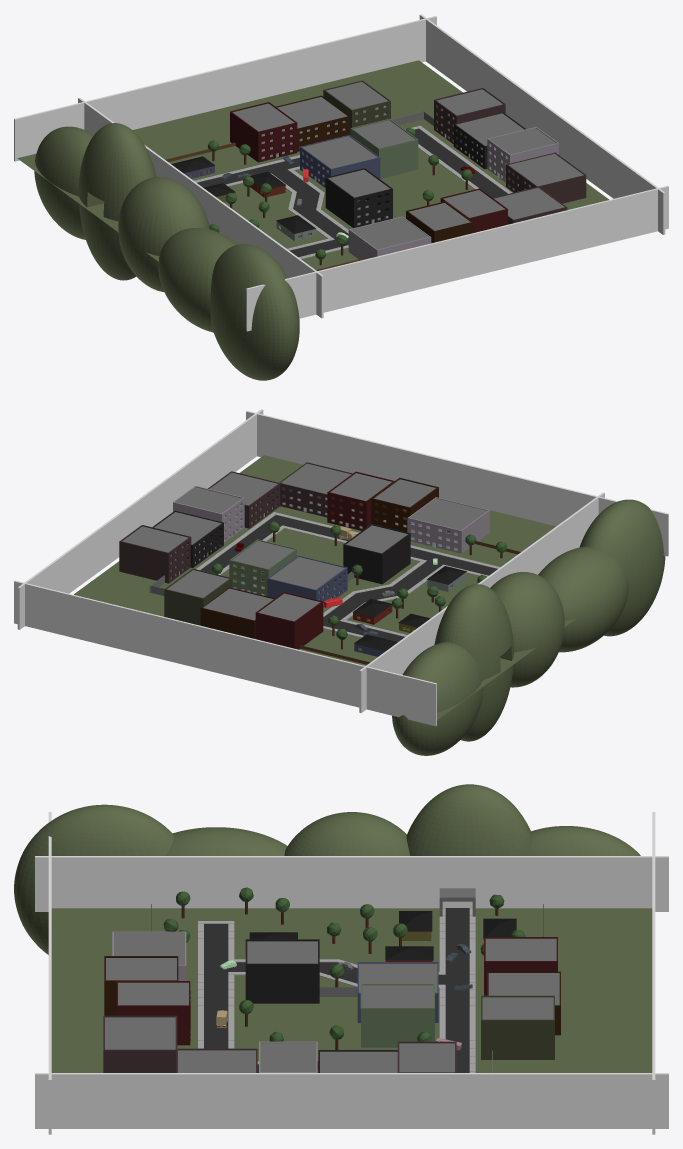
The model's file is ProjectMonsterConnceptMapTWO_Seven_CuBe.fbx.
3 renders of one model, top to bottom at view 1: azimuth 30°, elevation 25°; view 2: azimuth 150°, elevation 25°; view 3: azimuth 270°, elevation 25°, orthographic. The views are drawn at different scales.
Visible parts, largest first — view 1: Barrier, Hills, Baseplate, Road, Door Large.007, Door Large.003, Door Large.008, Door Large.011, CeilingB.005, CeilingB.001, CeilingB.003, Door Large.014 (+19 smaller); view 2: Barrier, Hills, Baseplate, Road, Door Large.001, Door Large.003, Door Large.007, Door Large.013, Door Large.005, Door Large.002, Door Large.008, Door Large.014 (+20 smaller); view 3: Barrier, Baseplate, Hills, Road, Door Large.007, Door Large.002, Door Large.008, CeilingB.004, Door Large.012, CeilingB.003, CeilingB.002, Ceiling.003 (+18 smaller).
Boxes of the visible parts, x1,y1,x2,y2 form: Barrier: [14, 14, 668, 331]; Hills: [34, 123, 299, 380]; Baseplate: [17, 60, 609, 325]; Road: [194, 125, 511, 259]; Door Large.007: [325, 168, 392, 228]; Door Large.003: [230, 102, 297, 162]; Door Large.008: [350, 118, 418, 178]; Door Large.011: [506, 152, 586, 203]; CeilingB.005: [351, 217, 428, 249]; CeilingB.001: [302, 136, 377, 168]; CeilingB.003: [509, 153, 583, 186]; Door Large.014: [300, 135, 380, 187]; Barrier: [14, 409, 668, 726]; Hills: [392, 499, 665, 755]; Baseplate: [74, 455, 665, 720]; Road: [196, 512, 500, 641]; Door Large.001: [119, 525, 191, 583]; Door Large.003: [255, 592, 323, 649]; Door Large.007: [343, 524, 410, 584]; Door Large.013: [407, 497, 489, 553]; Door Large.005: [327, 471, 394, 530]; Door Large.002: [164, 568, 231, 625]; Door Large.008: [229, 539, 296, 596]; Door Large.014: [267, 555, 347, 607]; Barrier: [35, 812, 668, 1134]; Baseplate: [51, 908, 652, 1072]; Hills: [14, 784, 640, 954]; Road: [198, 907, 475, 1072]; Door Large.007: [245, 939, 319, 1003]; Door Large.002: [481, 995, 554, 1059]; Door Large.008: [361, 983, 434, 1047]; CeilingB.004: [105, 1017, 175, 1049]; Door Large.012: [103, 1015, 177, 1072]; CeilingB.003: [178, 1050, 255, 1072]; CeilingB.002: [320, 1051, 397, 1072]; Ceiling.003: [260, 1043, 316, 1072].
Bounding box in the file's own units: 21700 × 21396 × 7200.
